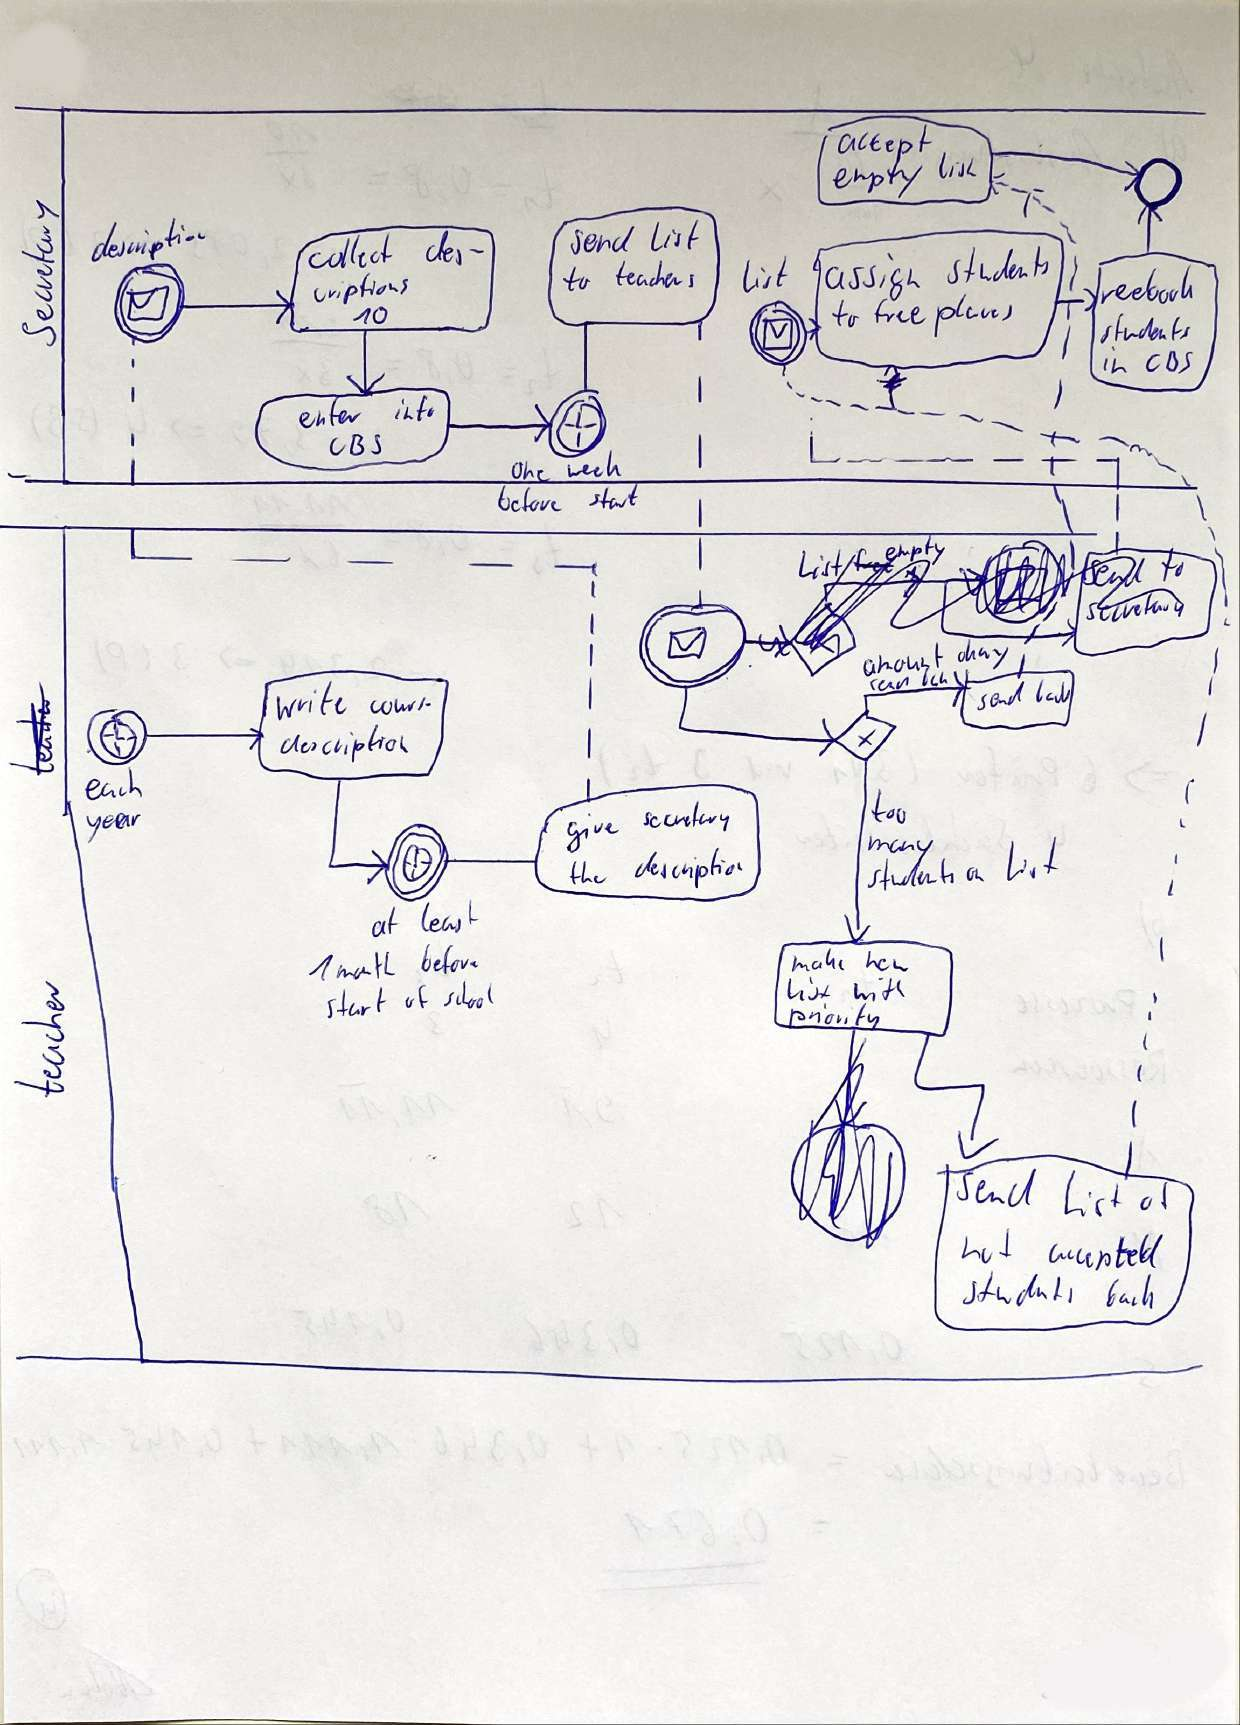1: (309, 948, 334, 985)
10: (354, 304, 389, 326)
CBS: (324, 431, 385, 459), (1144, 348, 1194, 374)
List: (1061, 1168, 1125, 1221)
One: (511, 459, 553, 484)
Secretary: (18, 200, 66, 346)
a: (960, 861, 987, 885)
accept: (834, 129, 933, 158)
accepted: (1049, 1231, 1163, 1272)
amount: (858, 651, 946, 679)
assign: (826, 255, 920, 300)
at: (367, 907, 403, 940)
back: (1105, 1275, 1161, 1312)
before: (495, 483, 564, 517), (417, 944, 482, 974)
ben: (920, 670, 951, 689)
collect: (307, 233, 393, 269)
cours-: (366, 694, 436, 716)
criptions: (310, 270, 414, 304)
des-: (424, 230, 488, 265)
description: (89, 222, 206, 265), (633, 848, 744, 891)
descriptions: (279, 726, 412, 765)
each: (85, 767, 144, 801)
empty: (831, 158, 923, 195)
enter: (299, 399, 366, 428)
free: (869, 296, 928, 329)
give: (565, 810, 616, 851)
in: (1098, 346, 1131, 378)
into: (392, 395, 438, 425)
least: (420, 902, 482, 938)
list: (1002, 839, 1063, 885), (741, 256, 794, 295), (648, 220, 701, 252), (783, 977, 836, 1004), (936, 149, 981, 180), (1031, 674, 1075, 704)
make: (791, 947, 850, 976)
many: (866, 834, 934, 866)
month: (334, 951, 401, 984)
new: (861, 950, 912, 974)
not: (959, 1227, 1018, 1268)
of: (1139, 1178, 1175, 1216), (400, 983, 436, 1017)
okay: (953, 641, 1009, 669)
places: (934, 292, 1019, 336)
priority: (787, 1006, 884, 1031)
reach: (868, 673, 910, 696)
rebook: (1099, 266, 1199, 307)
school: (442, 979, 497, 1011)
secretary: (642, 801, 733, 836)
send: (956, 1168, 1042, 1206), (568, 224, 635, 258), (974, 682, 1027, 712)
start: (322, 988, 389, 1023), (587, 486, 640, 513)
students: (958, 1267, 1076, 1306), (944, 246, 1052, 284), (1097, 312, 1196, 346), (864, 859, 960, 890)
teacher: (14, 976, 68, 1104)
teachers: (613, 261, 701, 291)
the: (566, 859, 611, 890)
to: (562, 264, 595, 296), (833, 297, 861, 332)
too: (870, 792, 910, 826)
week: (566, 451, 622, 481)
with: (849, 978, 909, 1004)
write: (272, 681, 348, 719)
year: (85, 811, 142, 842)
